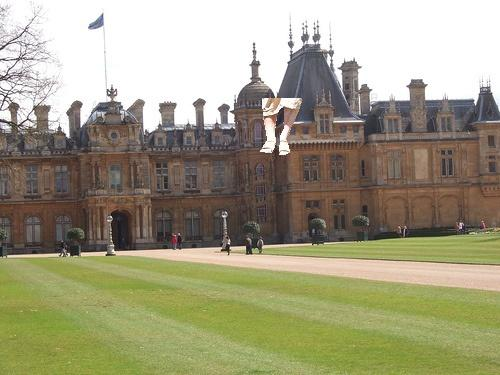tampered: (261, 99, 302, 155)
